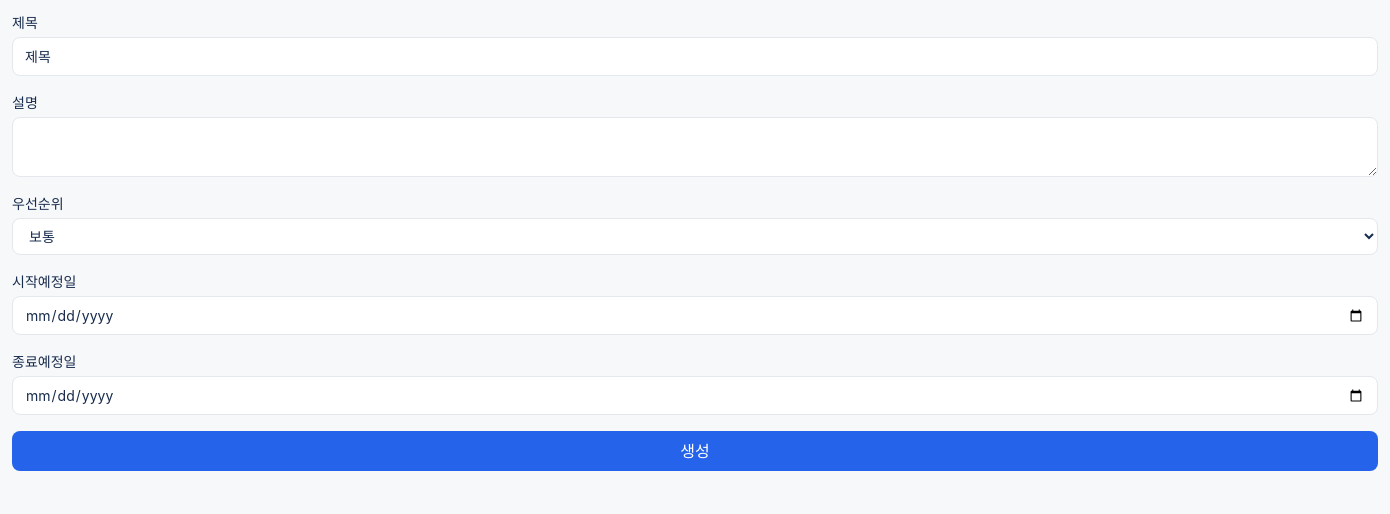
Test: TicketForm › C004-4: 종료예정일이 과거면 "종료예정일은 오늘 이후 날짜를 선택해주세요" 에러가 표시된다
Type "2020-01-01" into the date field labelled "종료예정일" at (695, 396), box [12,376,1378,415]
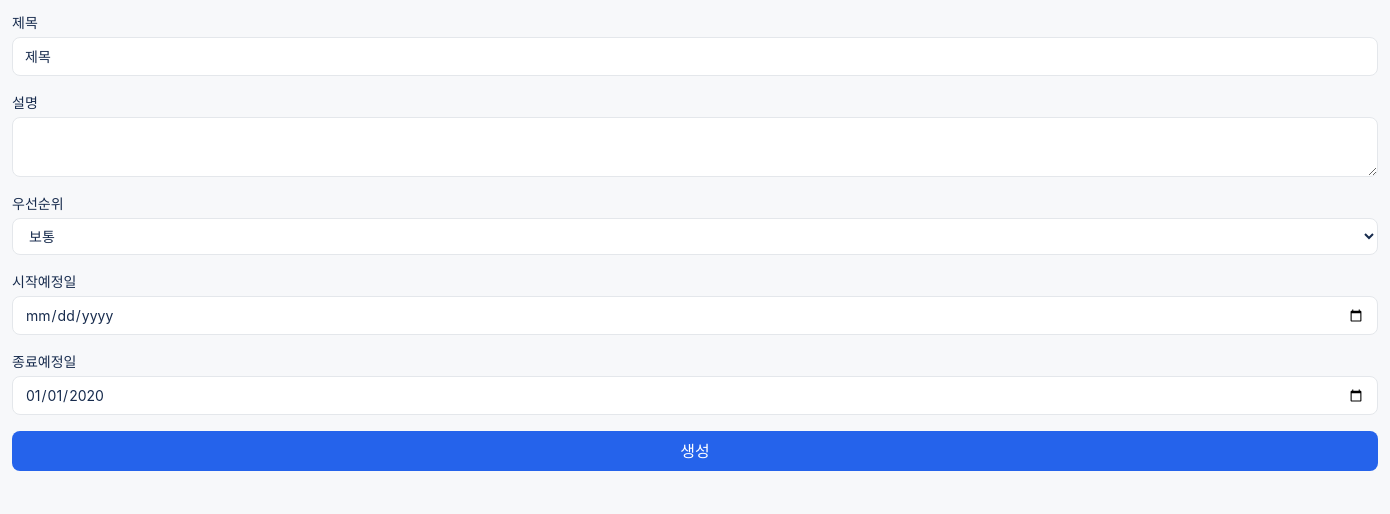
Click the button "생성" at (695, 451), box [12,431,1378,471]
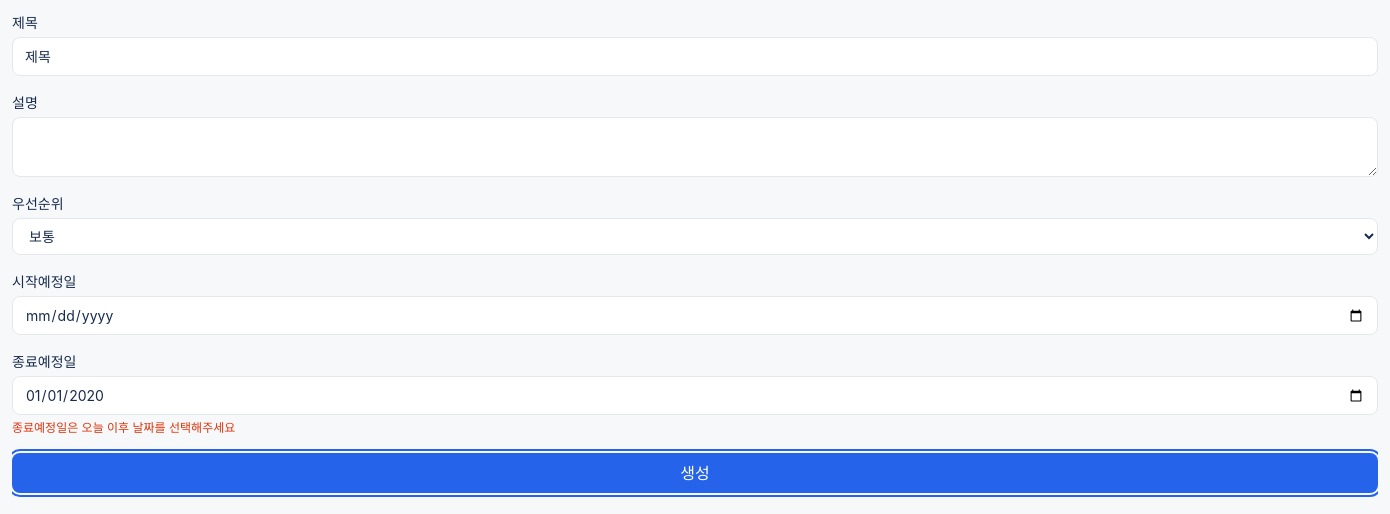
Now the text "종료예정일은 오늘 이후 날짜를 선택해주세요" is shown, box [12,420,235,435]
